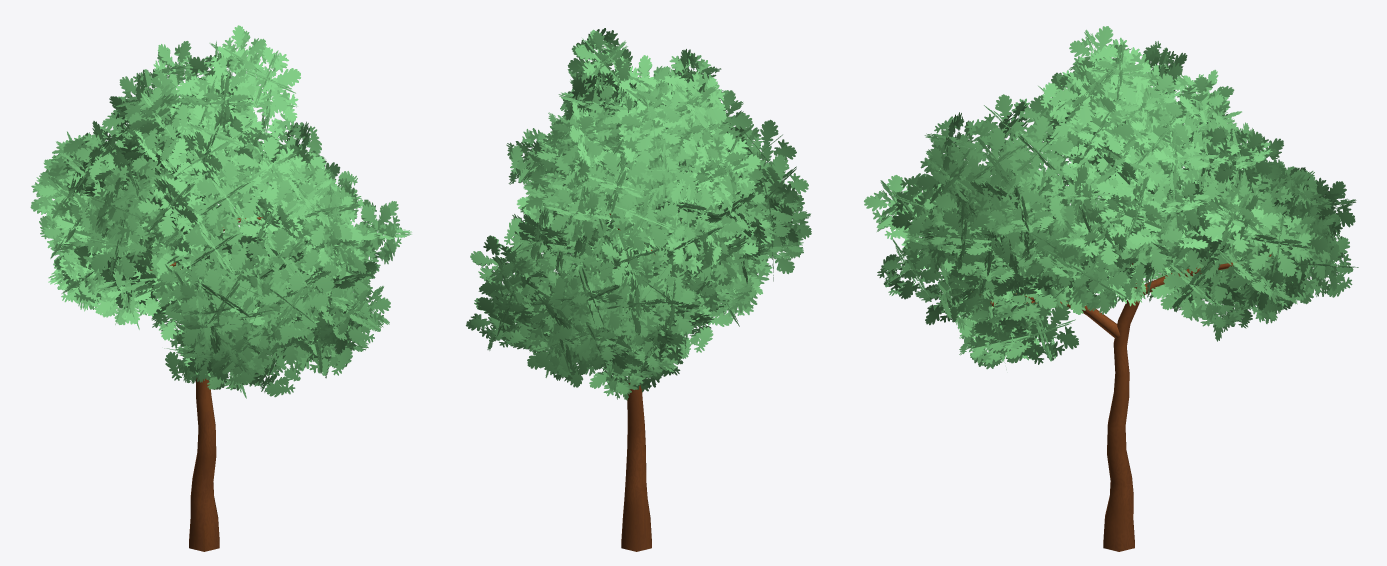
Rendered from STOak4.glb.
The picture shows the model from 3 angles, left to right: view 1: azimuth 30°, elevation 25°; view 2: azimuth 150°, elevation 25°; view 3: azimuth 270°, elevation 25°; orthographic projection. The views are drawn at different scales.
Visible parts, largest first — view 1: Leaf.068; view 2: Leaf.068; view 3: Leaf.068.
Part boxes in pixels (bbox=[...]): Leaf.068: bbox=[30, 25, 411, 551]; Leaf.068: bbox=[466, 28, 811, 551]; Leaf.068: bbox=[864, 26, 1358, 551].
Bounding box in the file's own units: 12.14 × 22.47 × 20.
Materials: 2 (2 with a texture image).
